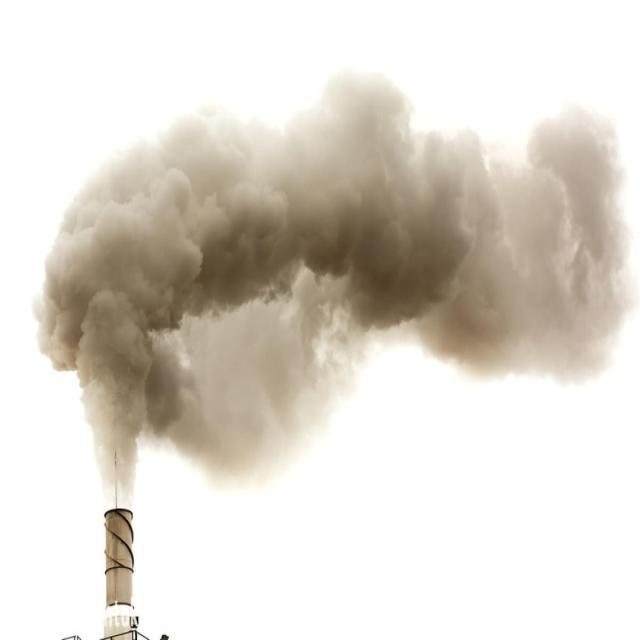Smoke: (37, 68, 640, 375), (145, 271, 369, 489), (74, 294, 181, 508)
